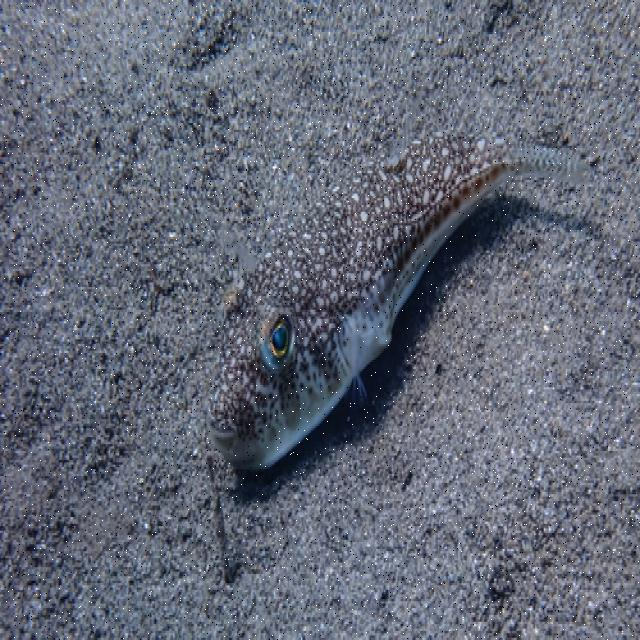Balik: (212, 137, 584, 469)
